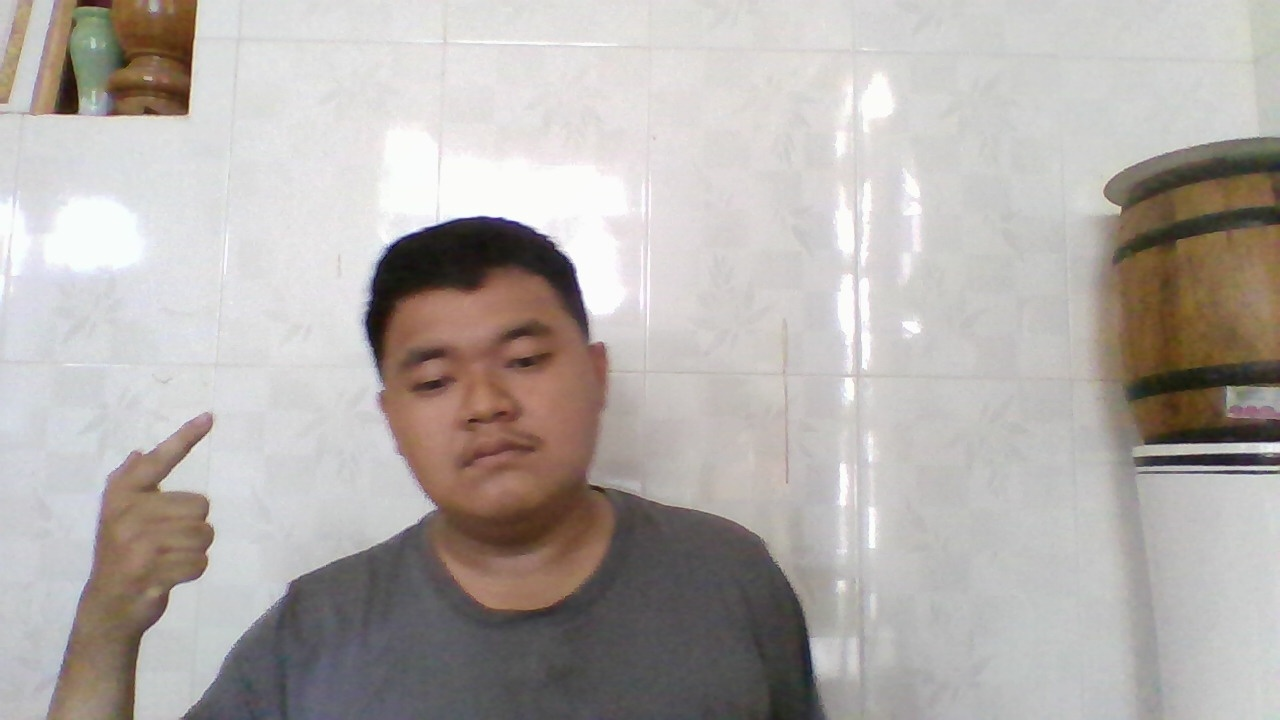G: (86, 405, 223, 635)
